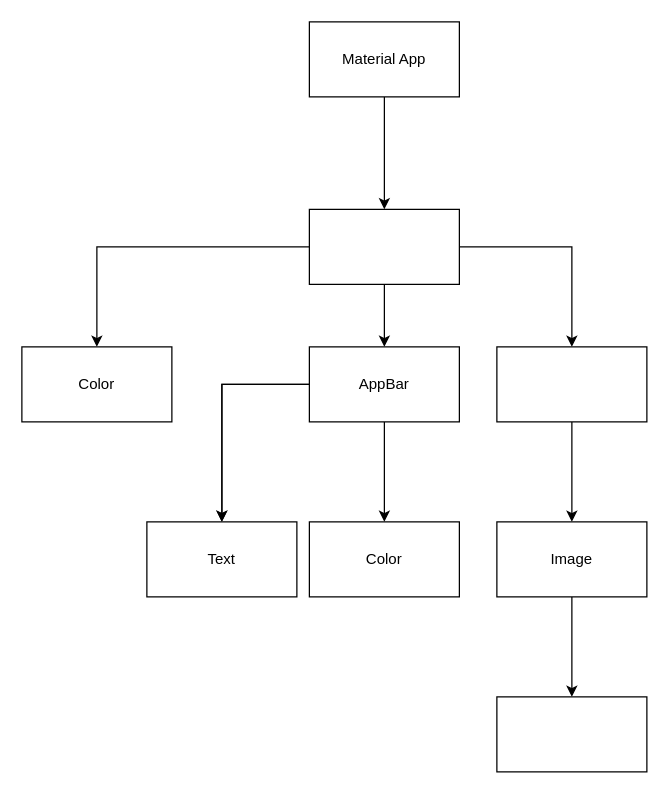
Image size: 669x794. Some labels were removed from this diagram. Each missing label, with the box of its shape:
Center: (496, 346, 647, 422)
NetworkImage: (496, 696, 647, 772)
Scaffold: (308, 208, 459, 284)
